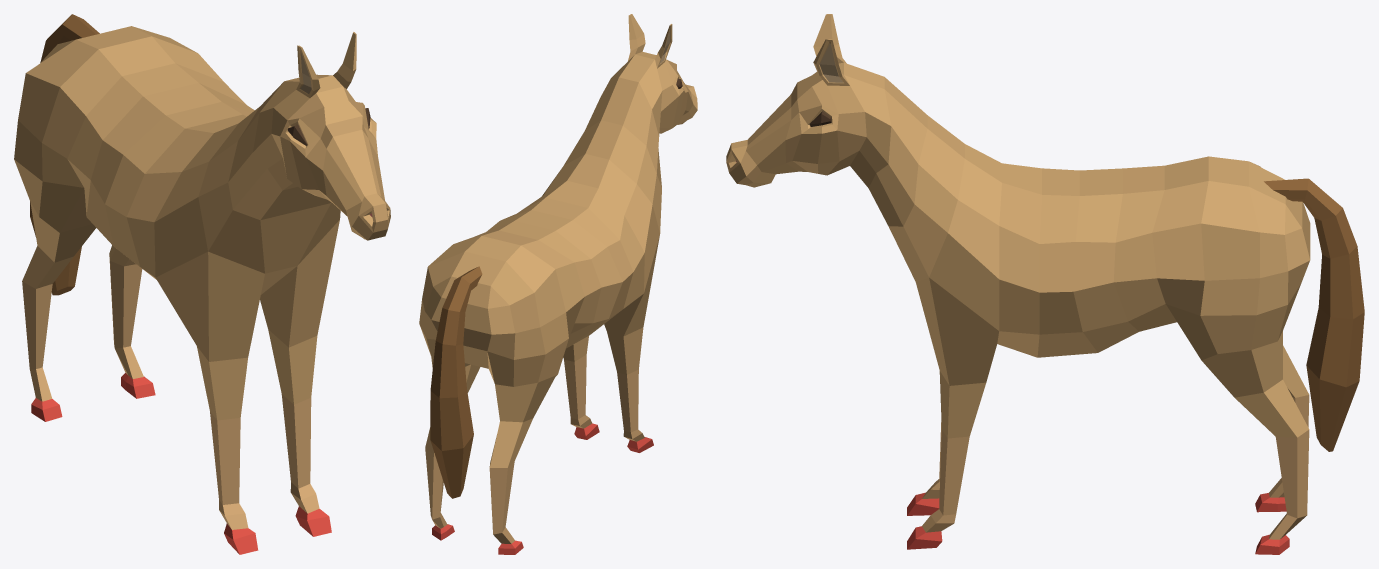
The model's file is horse_a.gltf.
3 views of the same model, side by side, from view 1: azimuth 30°, elevation 25°; view 2: azimuth 150°, elevation 25°; view 3: azimuth 270°, elevation 25° (orthographic). The views are drawn at different scales.
Visible parts, largest first — view 1: horse_a001; view 2: horse_a001; view 3: horse_a001.
Boxes of the visible parts, <box> form: horse_a001: <box>14,14,390,554</box>; horse_a001: <box>419,14,697,554</box>; horse_a001: <box>726,14,1364,554</box>.
Size of the model in its own units: 0.7129 by 1.97 by 2.27.
1 material, 1 textured.
